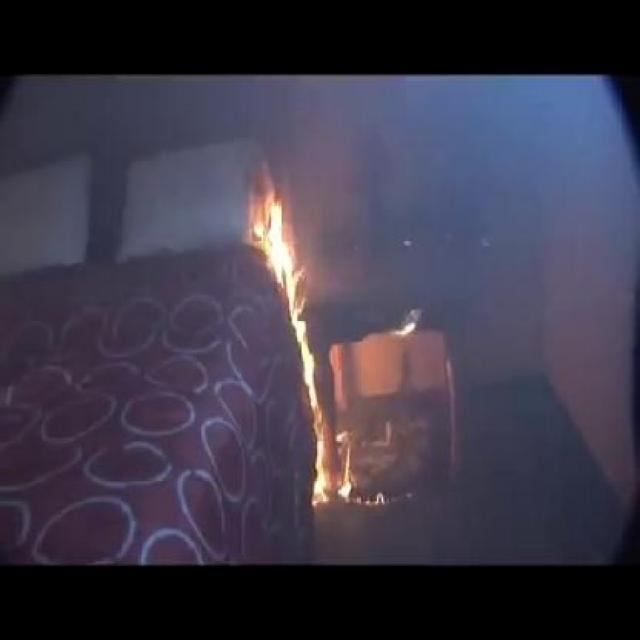fire: (252, 205, 354, 512)
